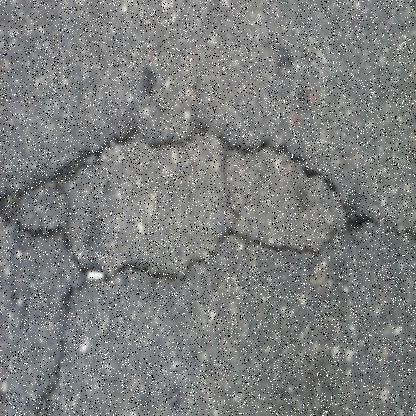Cracks: (0, 112, 415, 292), (34, 268, 94, 415)
